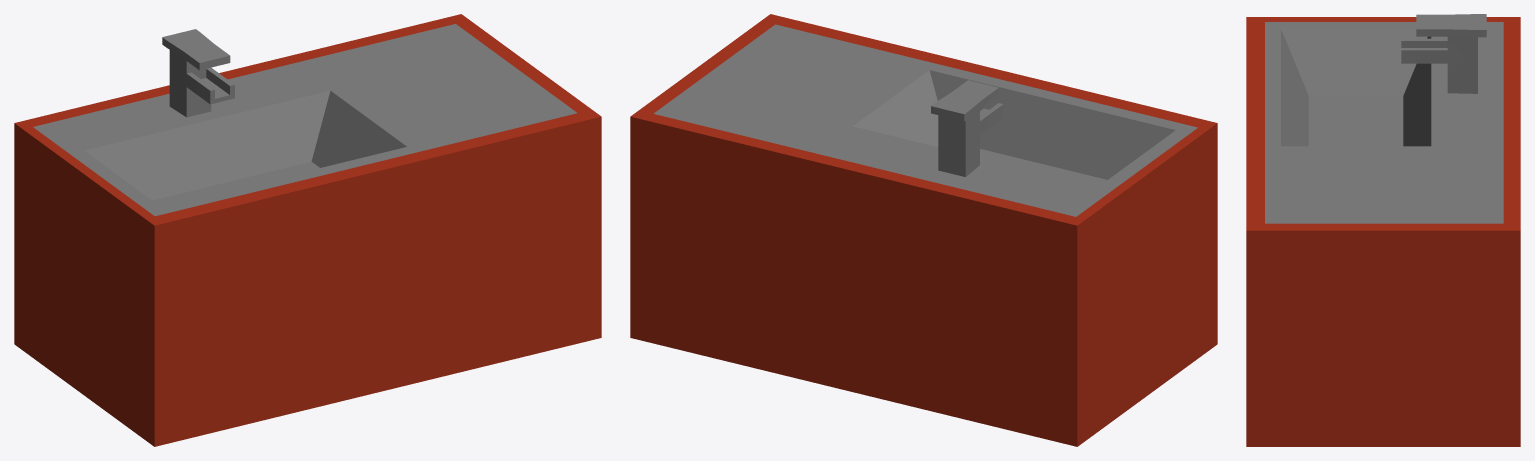
File: Sink.fbx
The picture shows the model from 3 angles, left to right: view 1: azimuth 30°, elevation 25°; view 2: azimuth 150°, elevation 25°; view 3: azimuth 270°, elevation 25°; orthographic projection. The views are drawn at different scales.
Visible parts, largest first — view 1: sink; view 2: sink; view 3: sink.
Part boxes in pixels (bbox=[...]): sink: bbox=[14, 14, 601, 446]; sink: bbox=[630, 14, 1217, 446]; sink: bbox=[1246, 14, 1520, 446].
Bounding box in the file's own units: 211 × 130 × 115.
